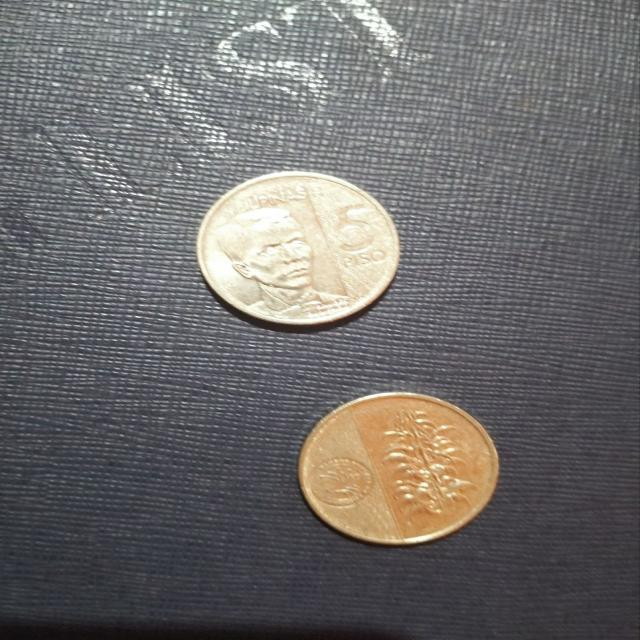5 peso: (184, 169, 409, 332), (294, 387, 502, 548)
